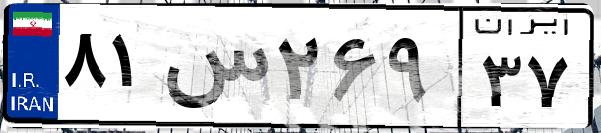1: (110, 28, 158, 98)
2: (270, 28, 330, 110)
3: (475, 38, 525, 113)
6: (330, 28, 385, 110)
7: (525, 38, 570, 115)
8: (57, 26, 110, 100)
9: (385, 28, 445, 110)
س: (158, 20, 270, 120)
